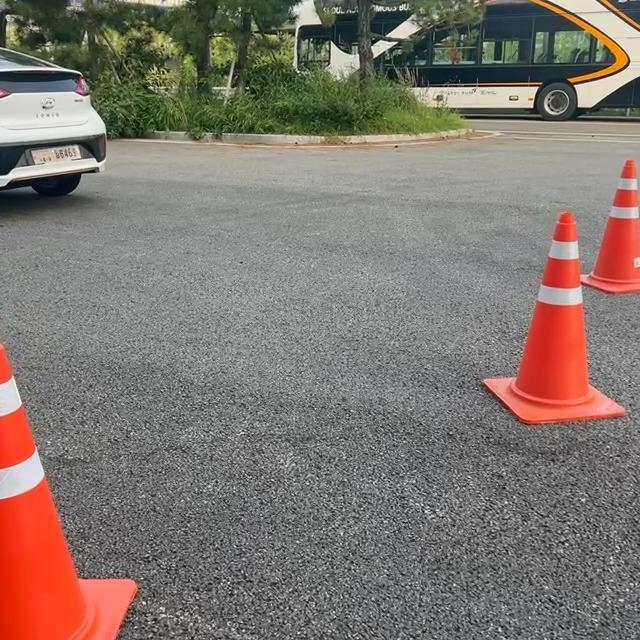fallen_object: (0, 303, 142, 640), (432, 210, 627, 445), (573, 133, 640, 333)
